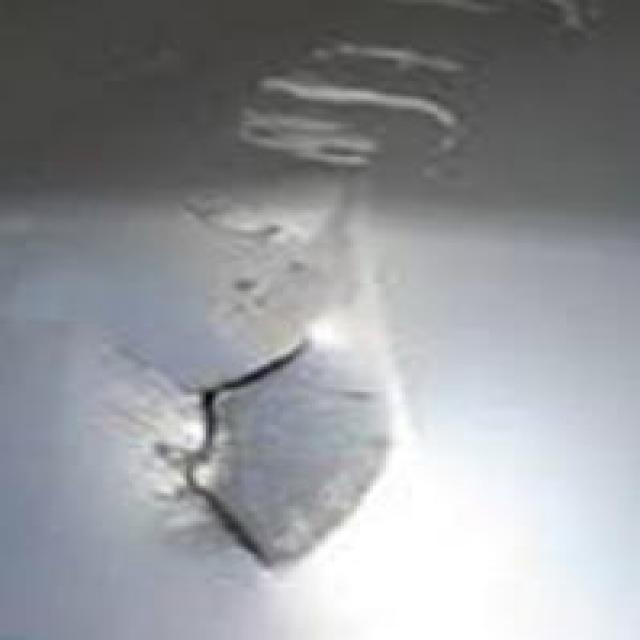scratch: (171, 2, 598, 264)
